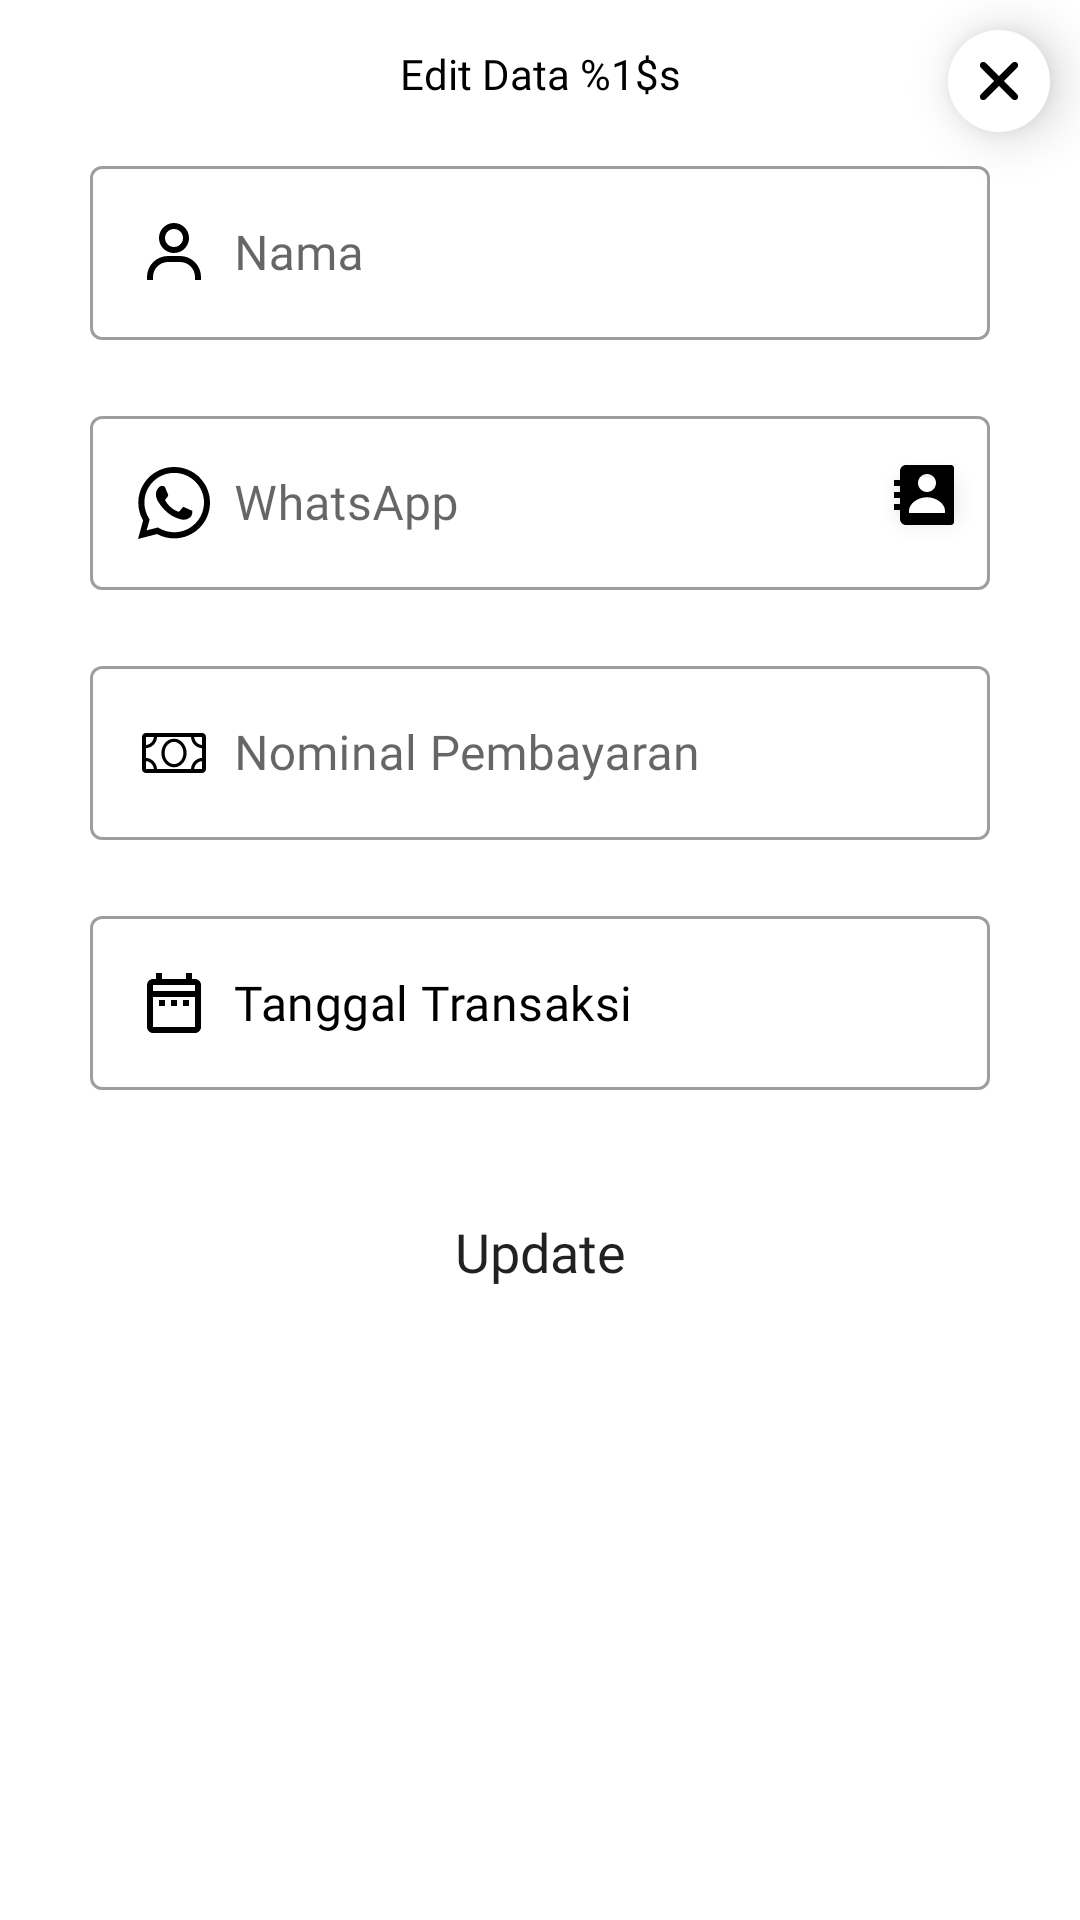

Where to tap for icons on this 1080 × 1920 app screen, as [x,y]:
close: [999,81]
contact: [924,495]
